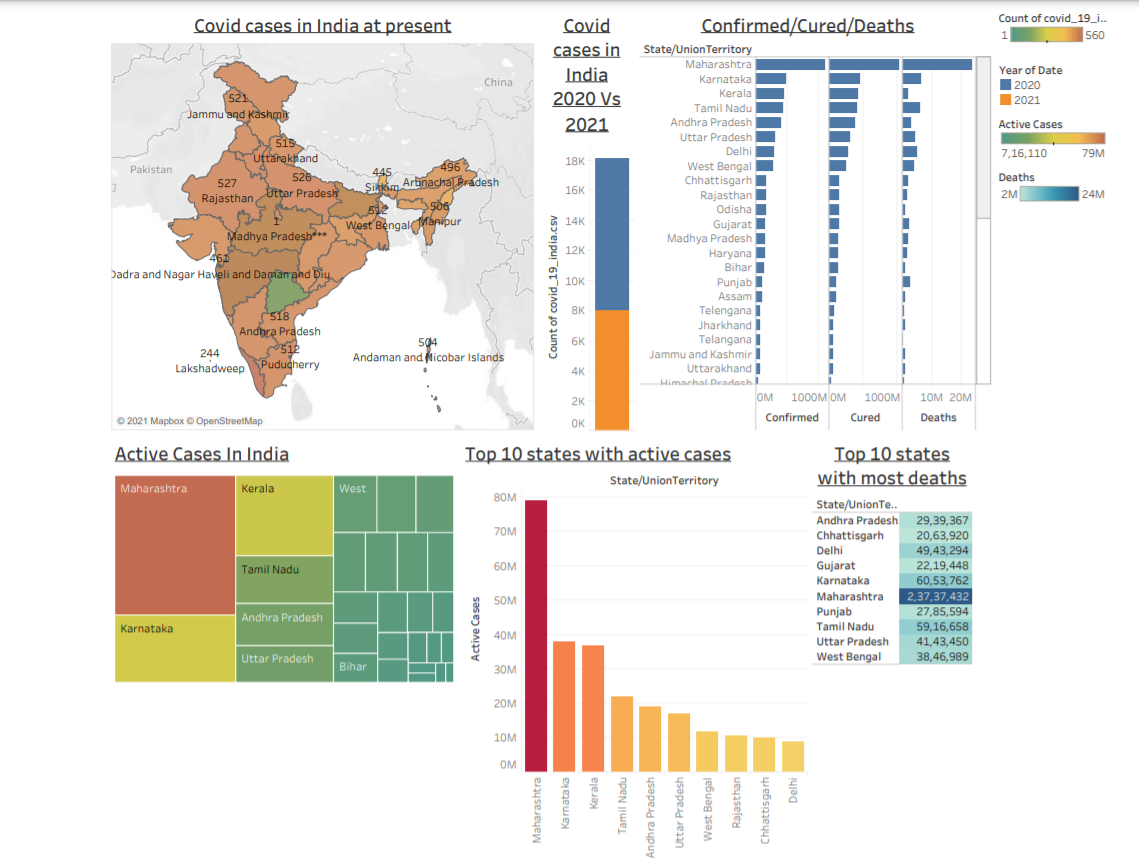

This screenshot's page, from the dashboard's own definition file:
{"tool":"tableau","page":{"name":"Dashboard 1","canvas":[1400,1200],"ordinal":0},"visuals":[{"type":"worksheet","title":"Covid cases in India at present","mark":"Automatic","box":[8,8,591,592]},{"type":"worksheet","title":"Covid cases in India 2020 Vs 2021","mark":"Bar","rows":["covid_19_india.csv_C9251AACEDB4473EB35A93B3E1785886"],"box":[599,8,138,592]},{"type":"worksheet","title":"Confirmed/Cured/Deaths","mark":"Automatic","rows":["State/UnionTerritory"],"cols":["Confirmed","Cured","Deaths"],"box":[737,8,495,592]},{"type":"legend","title":"Covid cases in India at present","param":"[federated.07zgpv90c18cde1awaeef1xlbykk].[__tableau_internal_object_id__].[cnt:c","box":[1232,8,160,73]},{"type":"legend","title":"Covid cases in India 2020 Vs 2021","param":"[federated.07zgpv90c18cde1awaeef1xlbykk].[yr:Date:ok]","box":[1232,81,160,72]},{"type":"legend","title":"Active Cases In India","param":"[federated.07zgpv90c18cde1awaeef1xlbykk].[sum:Calculation_1147855000355418112:qk","box":[1232,153,160,73]},{"type":"legend","title":"Top 10 states with most deaths","param":"[federated.07zgpv90c18cde1awaeef1xlbykk].[sum:Deaths:qk]","box":[1232,226,160,73]},{"type":"worksheet","title":"Active Cases In India","mark":"Automatic","box":[8,600,483.5,592]},{"type":"worksheet","title":"Top 10 states with active cases","mark":"Automatic","rows":["Calculation_1147855000355418112"],"cols":["State/UnionTerritory"],"box":[491.5,600,483.5,592]},{"type":"worksheet","title":"Top 10 states with most deaths","mark":"Square","rows":["State/UnionTerritory"],"box":[975,600,257,592]}]}

Visuals, with their boxes in screenshot pixels (x1, y1, x2, y2):
"Covid cases in India at present" worksheet: box=[26, 29, 447, 451]
"Covid cases in India 2020 Vs 2021" worksheet (Bar marks): box=[447, 29, 545, 451]
"Confirmed/Cured/Deaths" worksheet: box=[545, 29, 898, 451]
"Covid cases in India at present" legend: box=[898, 29, 1012, 81]
"Covid cases in India 2020 Vs 2021" legend: box=[898, 81, 1012, 133]
"Active Cases In India" legend: box=[898, 133, 1012, 185]
"Top 10 states with most deaths" legend: box=[898, 185, 1012, 237]
"Active Cases In India" worksheet: box=[26, 451, 371, 866]
"Top 10 states with active cases" worksheet: box=[371, 451, 715, 866]
"Top 10 states with most deaths" worksheet (Square marks): box=[715, 451, 898, 866]
